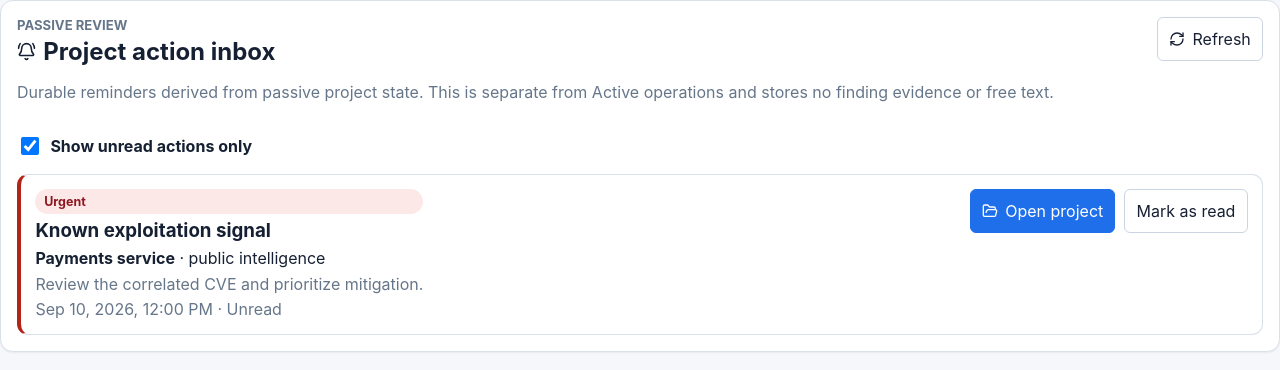
it: ProjectActionInboxPanel › marks an action as read and refreshes the current unread view
Expected: the heading "Known exploitation signal" is shown, [35,219,271,242]
Click the button "Mark as read". click: [1186, 211]
box: [1124,189,1248,233]
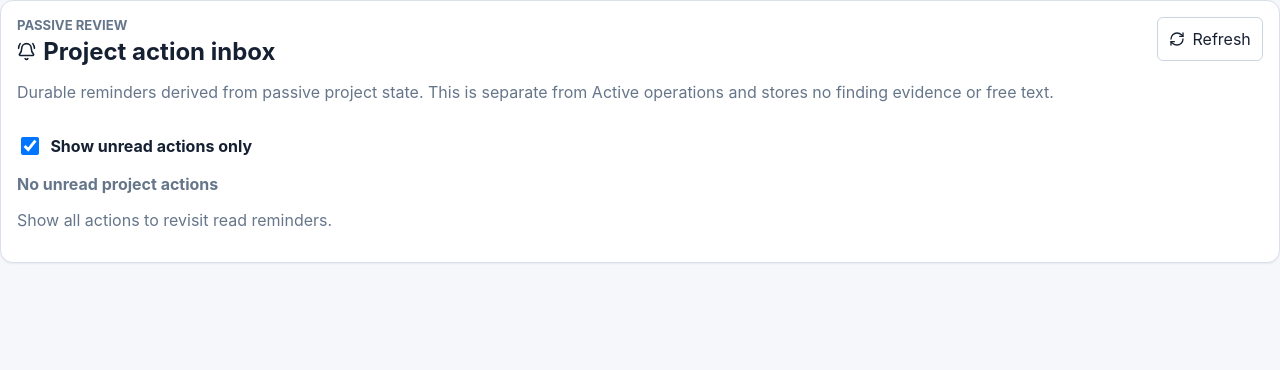
Expected: the text "No unread project actions" is shown, [17,174,218,194]
